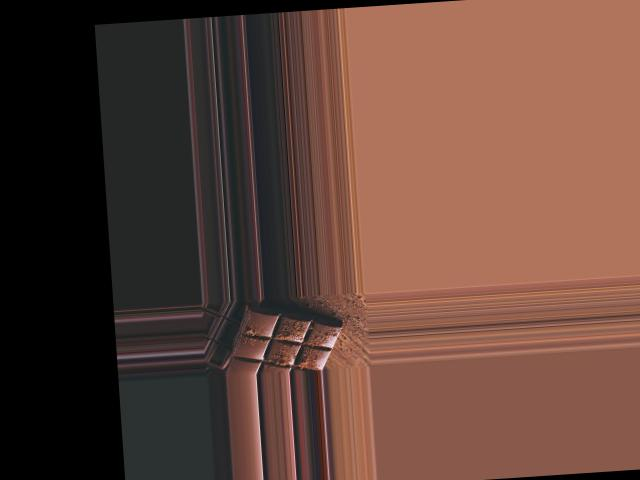chocolate: (220, 300, 351, 375)
